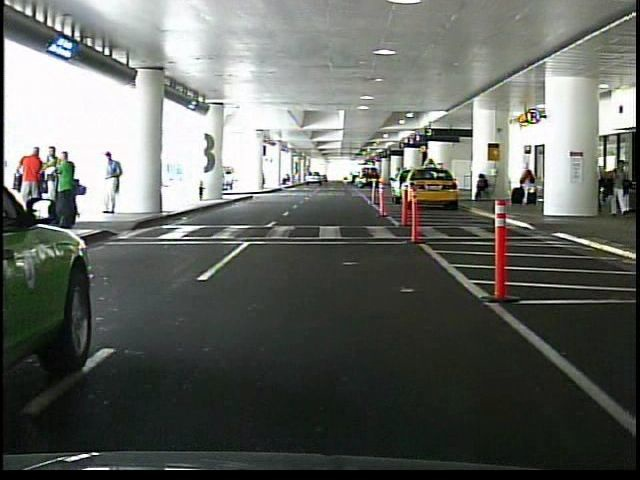person: (57, 150, 82, 230), (101, 151, 126, 217), (605, 155, 630, 218), (24, 146, 47, 201), (48, 144, 64, 212), (520, 160, 537, 207), (474, 171, 493, 201)
